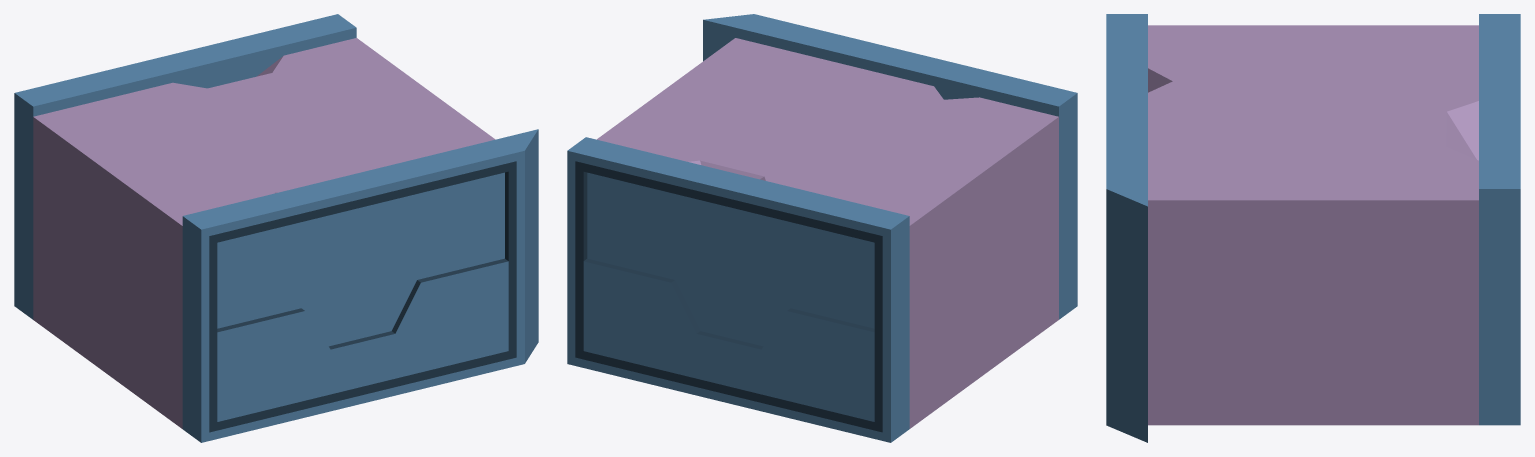
File: Wall.008.fbx
3 views of the same model, side by side, from view 1: azimuth 30°, elevation 25°; view 2: azimuth 150°, elevation 25°; view 3: azimuth 270°, elevation 25° (orthographic). The views are drawn at different scales.
Visible parts, largest first — view 1: Wall.008; view 2: Wall.008; view 3: Wall.008.
Boxes of the visible parts, x1=… form: Wall.008: x1=14, y1=14, x2=538, y2=442; Wall.008: x1=567, y1=14, x2=1077, y2=442; Wall.008: x1=1106, y1=14, x2=1520, y2=442.
Size of the model in its own units: 1100 by 630 by 1000.
